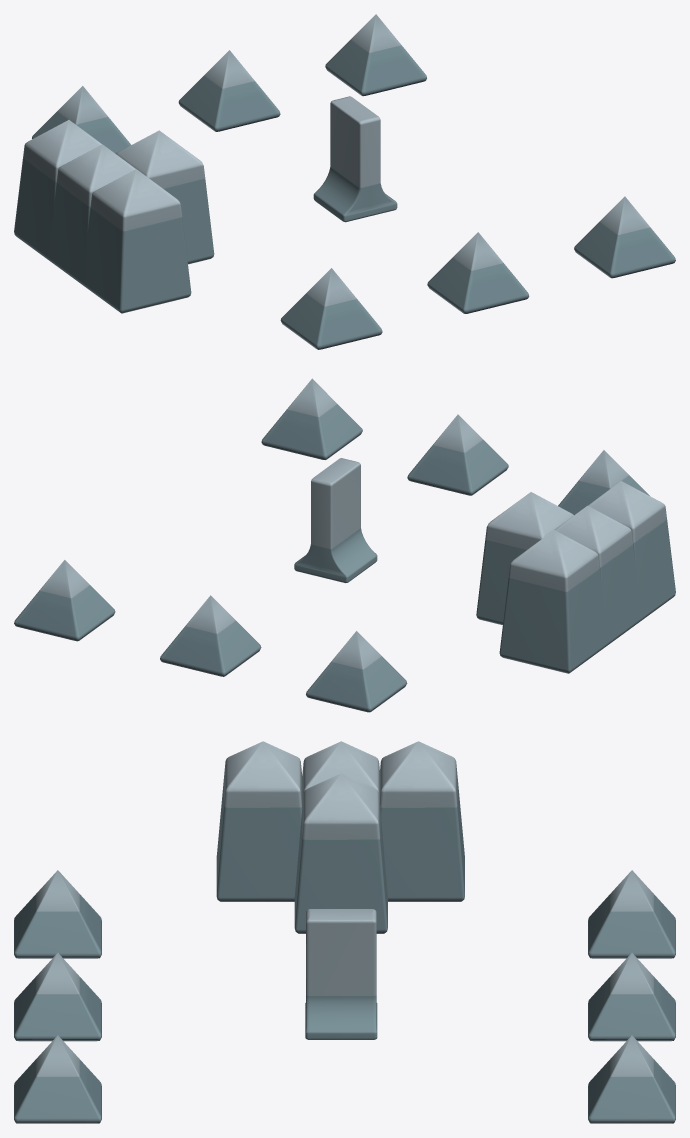
Rendered from Props (1).fbx.
3 views of the same model, one above another, from view 1: azimuth 30°, elevation 25°; view 2: azimuth 150°, elevation 25°; view 3: azimuth 270°, elevation 25° (orthographic). The views are drawn at different scales.
Visible parts, largest first — view 1: 棱锥 (×4), 三角锥 (×6), 曲面单元; view 2: 棱锥 (×4), 三角锥 (×6), 曲面单元; view 3: 棱锥 (×4), 三角锥 (×6), 曲面单元.
Boxes of the visible parts, left/top/right/bottom form: 棱锥 (×4): left=14, top=120, right=214, bottom=313; 三角锥 (×6): left=32, top=14, right=675, bottom=349; 曲面单元: left=313, top=96, right=397, bottom=222; 棱锥 (×4): left=476, top=481, right=675, bottom=673; 三角锥 (×6): left=14, top=378, right=649, bottom=712; 曲面单元: left=294, top=458, right=377, bottom=583; 棱锥 (×4): left=216, top=741, right=464, bottom=933; 三角锥 (×6): left=14, top=870, right=675, bottom=1123; 曲面单元: left=305, top=909, right=377, bottom=1039.
Size of the model in its own units: 25.54 by 6.42 by 27.1.
Materials: 3 (3 with a texture image).
